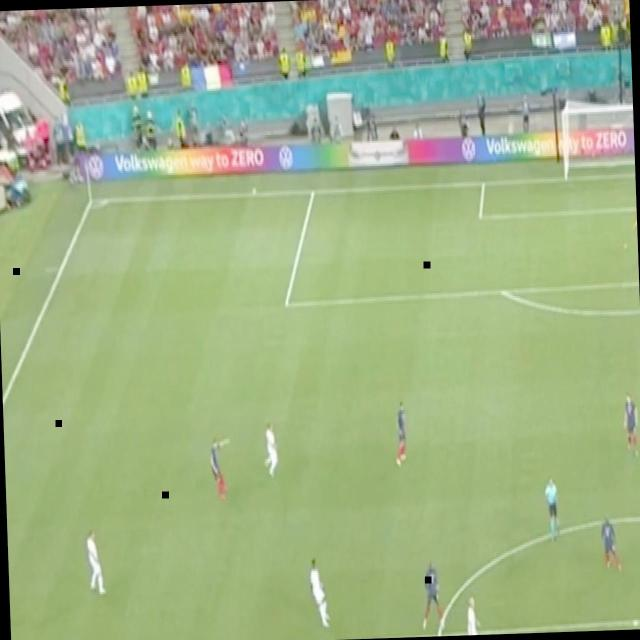player-white: (304, 554, 334, 636), (415, 558, 447, 634), (79, 527, 107, 599), (206, 432, 234, 501), (617, 388, 640, 462), (596, 513, 624, 573), (541, 470, 561, 548), (390, 398, 410, 472), (258, 416, 281, 480), (457, 594, 485, 636), (629, 203, 638, 263)
